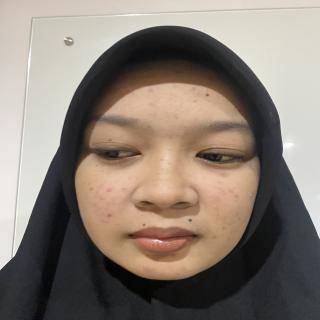Sedih: (67, 44, 279, 283)
